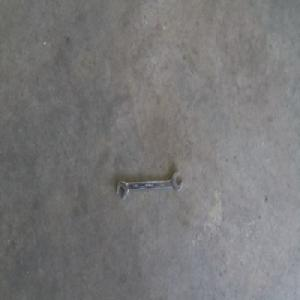Wrench: (115, 169, 182, 196)
